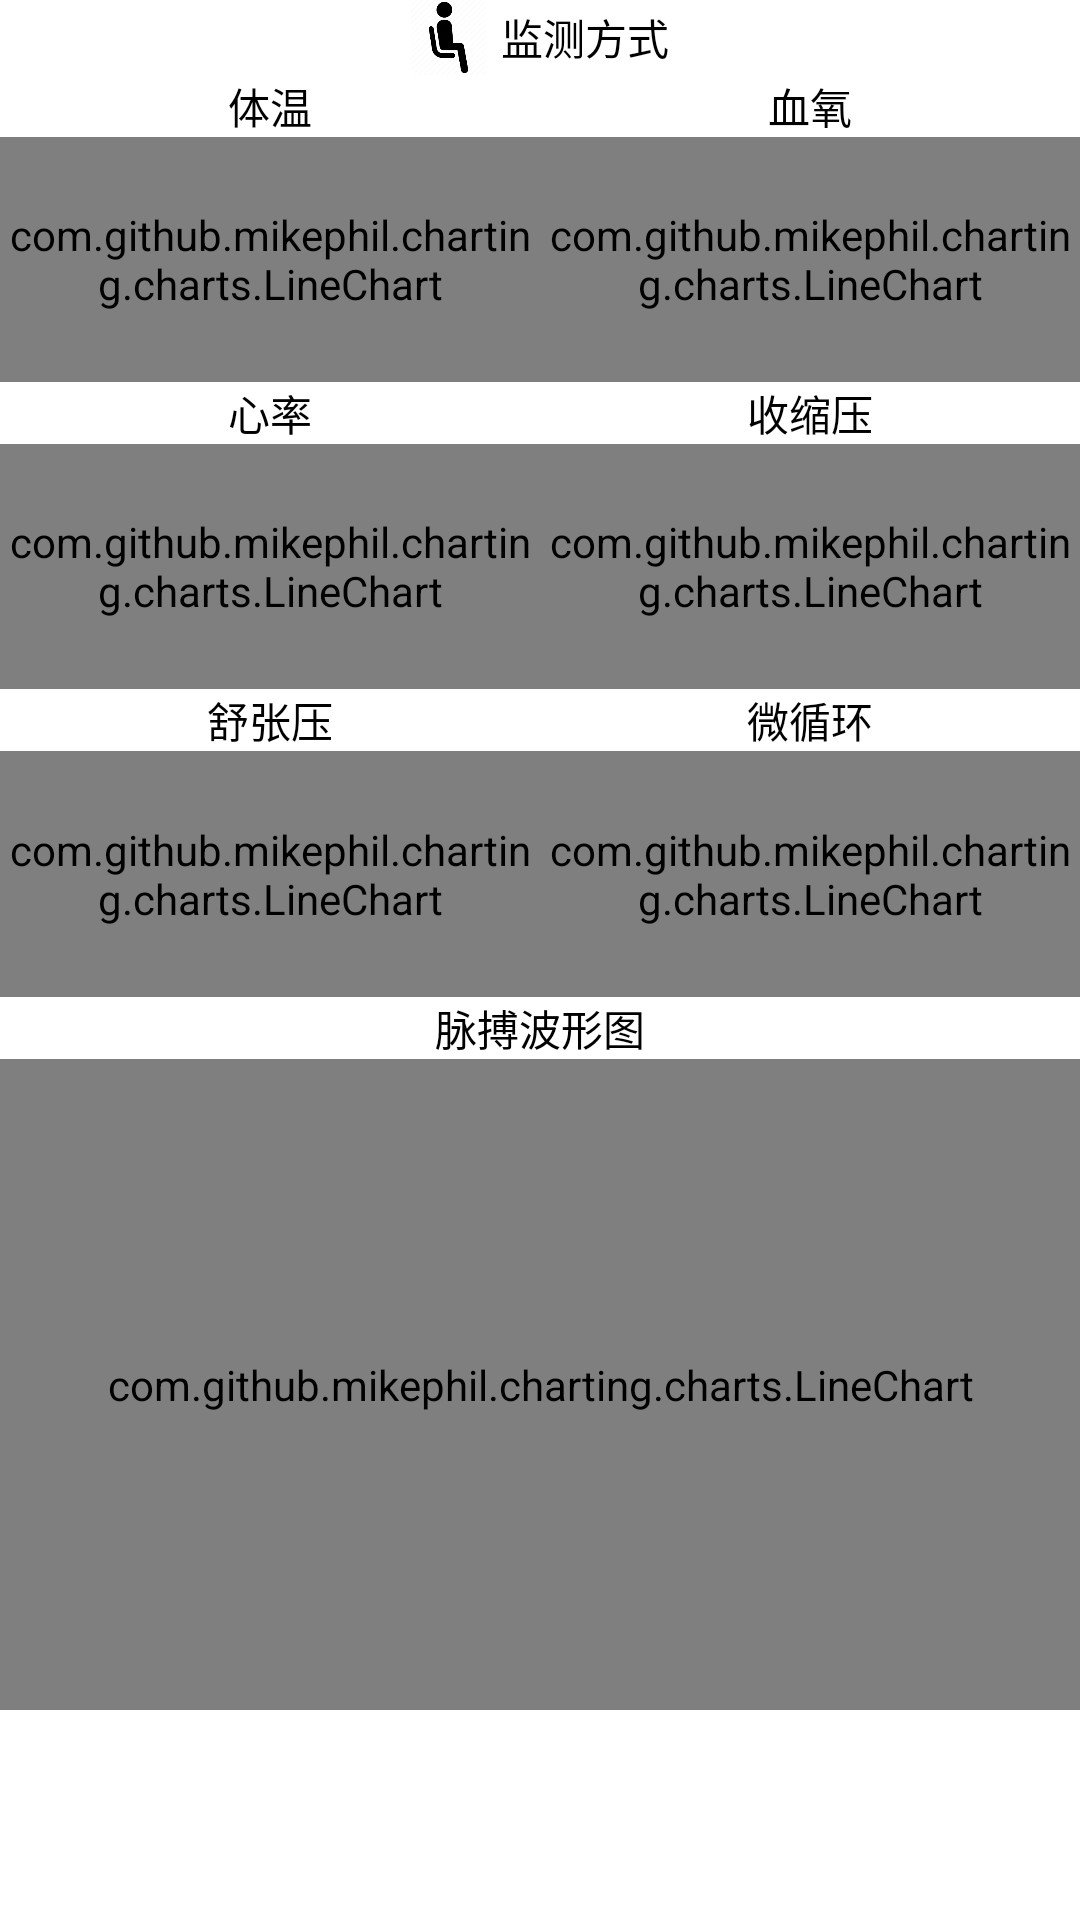

Where to tap for icons on this 1080px x 1920px app screen, as (x=x, y=y):
sitting: (x=448, y=37)
